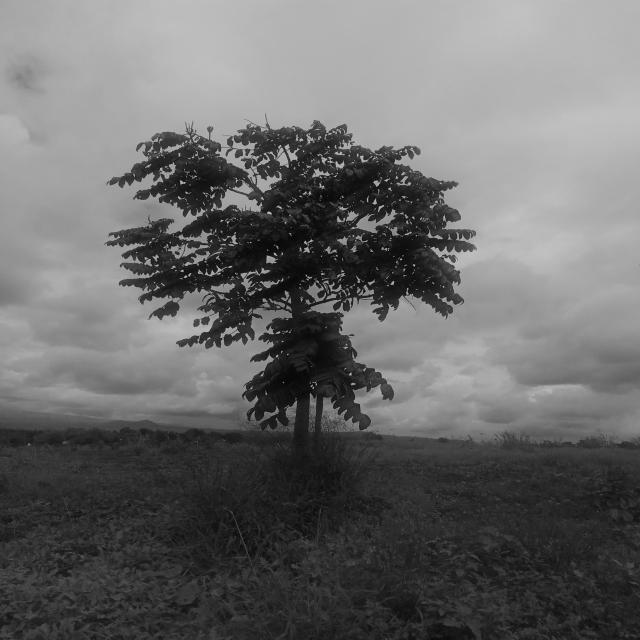Polyscias Kikuyensis: (103, 99, 496, 499)
